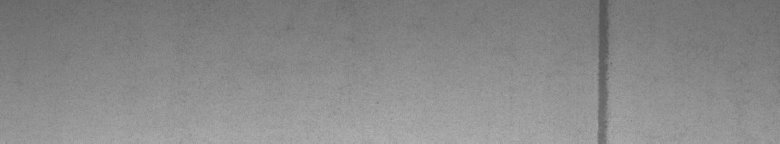hd: (592, 4, 613, 136)
